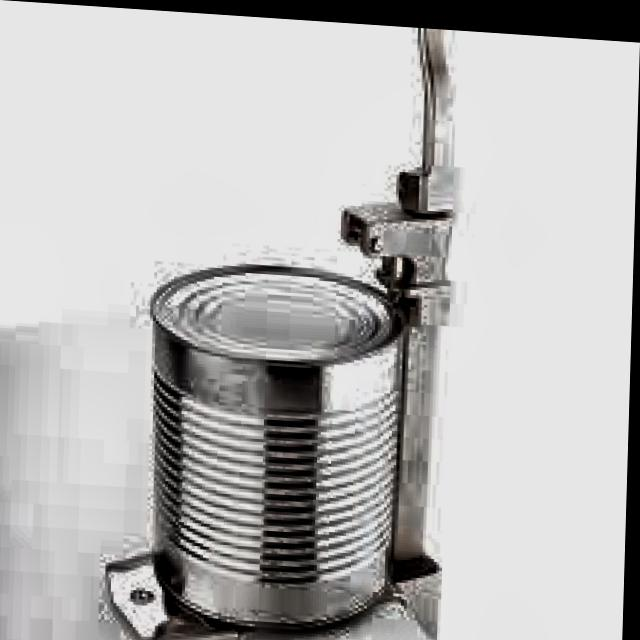can: (134, 248, 417, 635)
